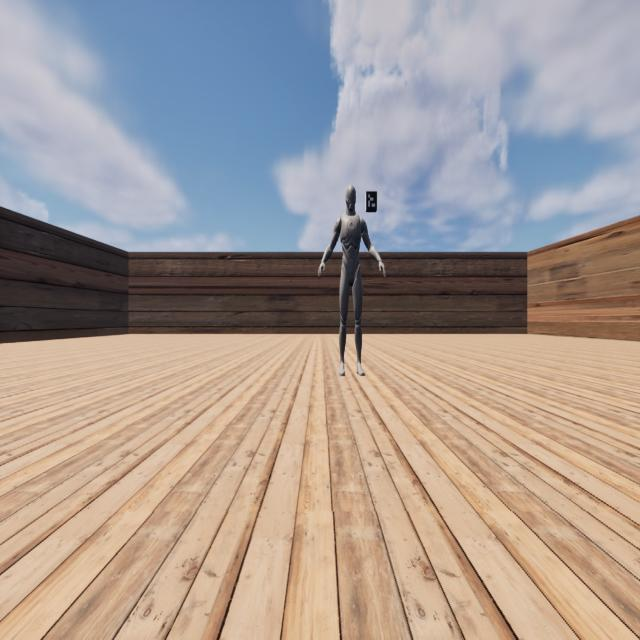aruco: (367, 191, 377, 211)
hip: (340, 264, 360, 272)
